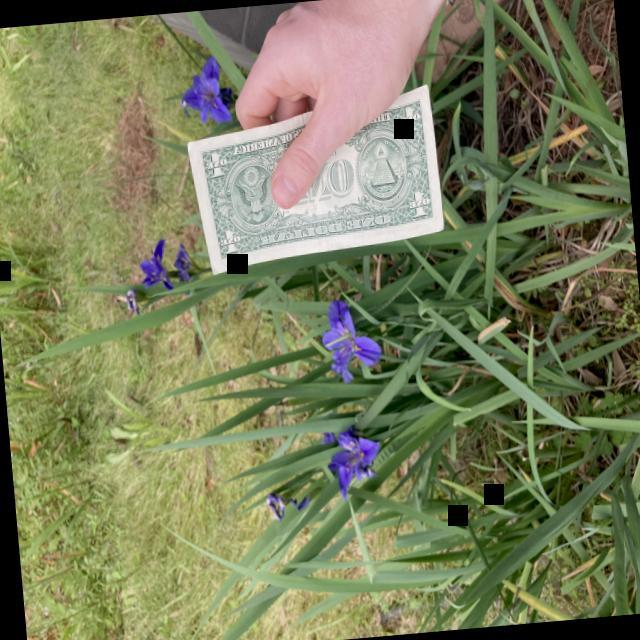one: (187, 82, 445, 275)
